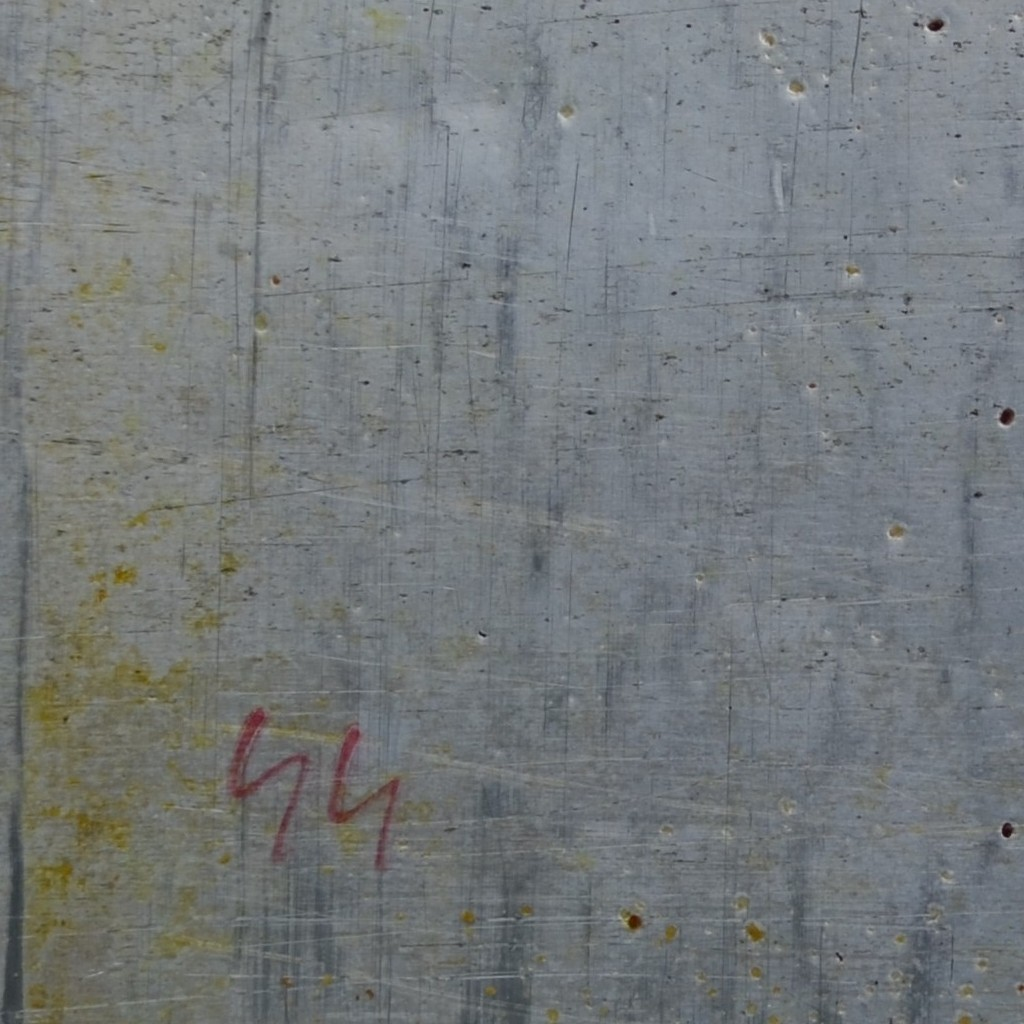varroa: (997, 404, 1017, 429), (924, 16, 946, 35), (1000, 819, 1016, 842)
